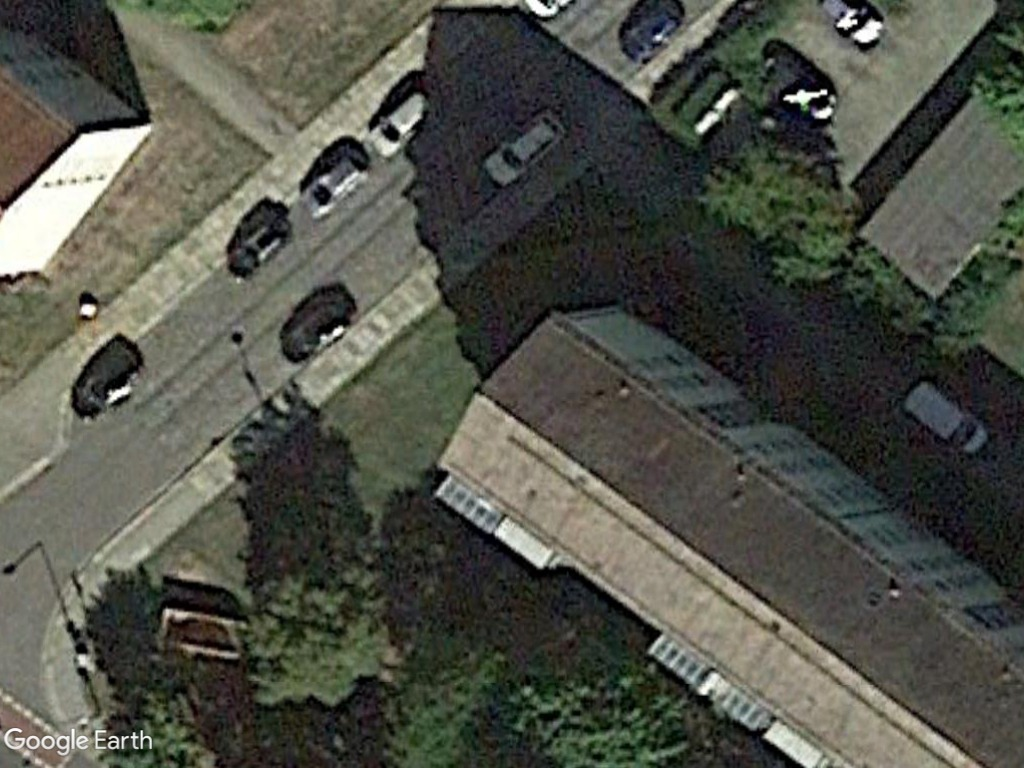car: (477, 102, 570, 193), (296, 147, 373, 224)
van: (892, 367, 991, 463)
